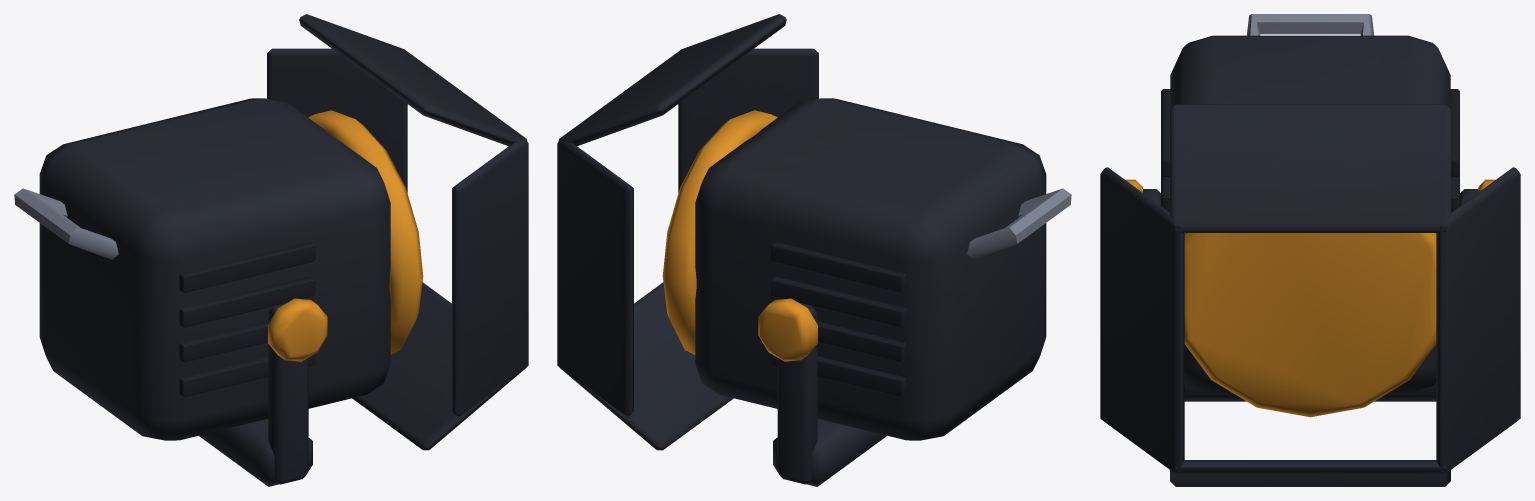
File: SM_Station_StageLight_Head.fbx
3 renders of one model, left to right at view 1: azimuth 30°, elevation 25°; view 2: azimuth 150°, elevation 25°; view 3: azimuth 270°, elevation 25°, orthographic. The views are drawn at different scales.
Visible parts, largest first — view 1: SM_Station_StageLight_Head; view 2: SM_Station_StageLight_Head; view 3: SM_Station_StageLight_Head.
Boxes of the visible parts, <box> form: SM_Station_StageLight_Head: <box>14,14,528,486</box>; SM_Station_StageLight_Head: <box>557,14,1071,486</box>; SM_Station_StageLight_Head: <box>1100,14,1520,486</box>.
Bounding box in the file's own units: 77.05 × 60.03 × 60.04.
